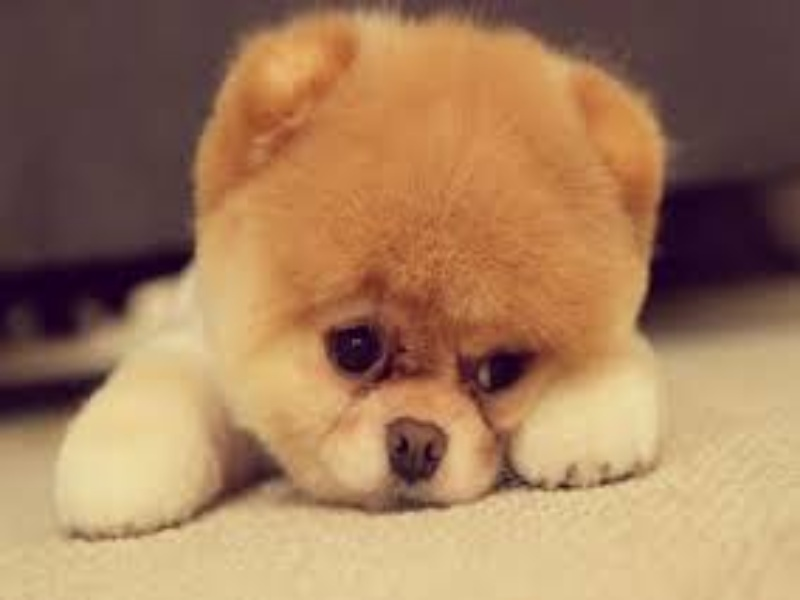dog: (74, 13, 697, 561)
